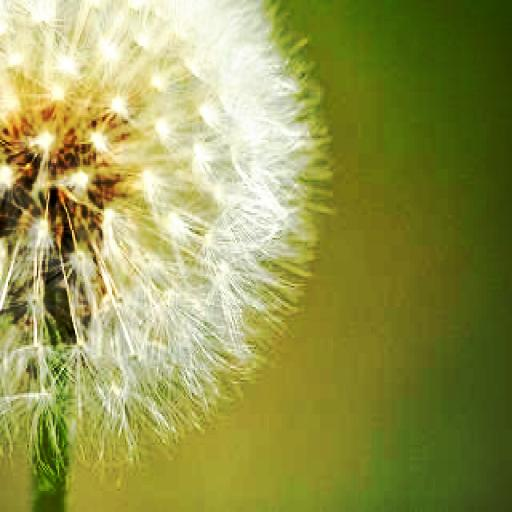dandelion: (2, 0, 507, 510)
